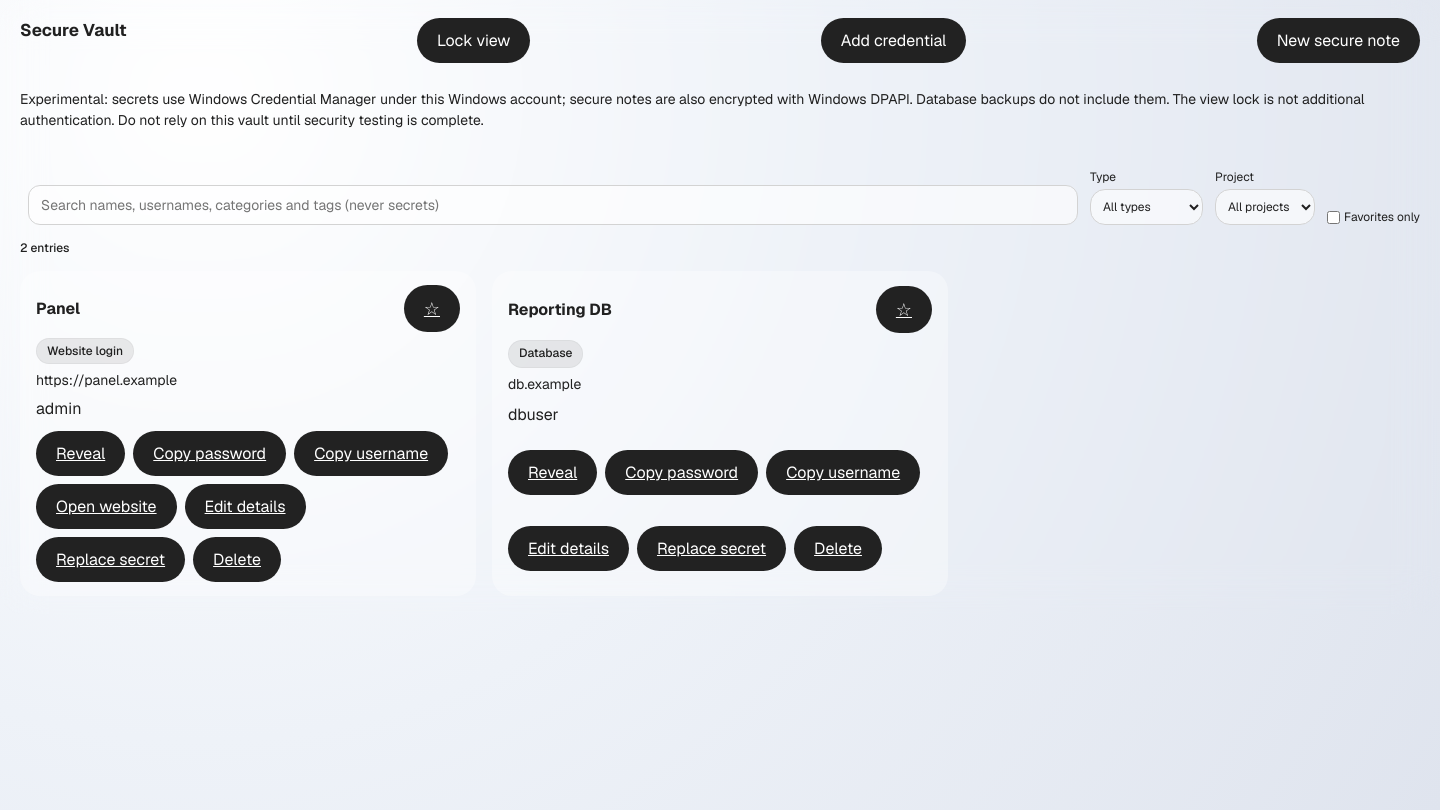
Test: search covers metadata but never secrets
The image size is (1440, 810).
Expected: the text "Panel" is shown, x1=36 y1=298 x2=80 y2=319
Type "db.example" into the field named "Search vault metadata". click: (553, 205)
box: x1=28 y1=185 x2=1078 y2=225
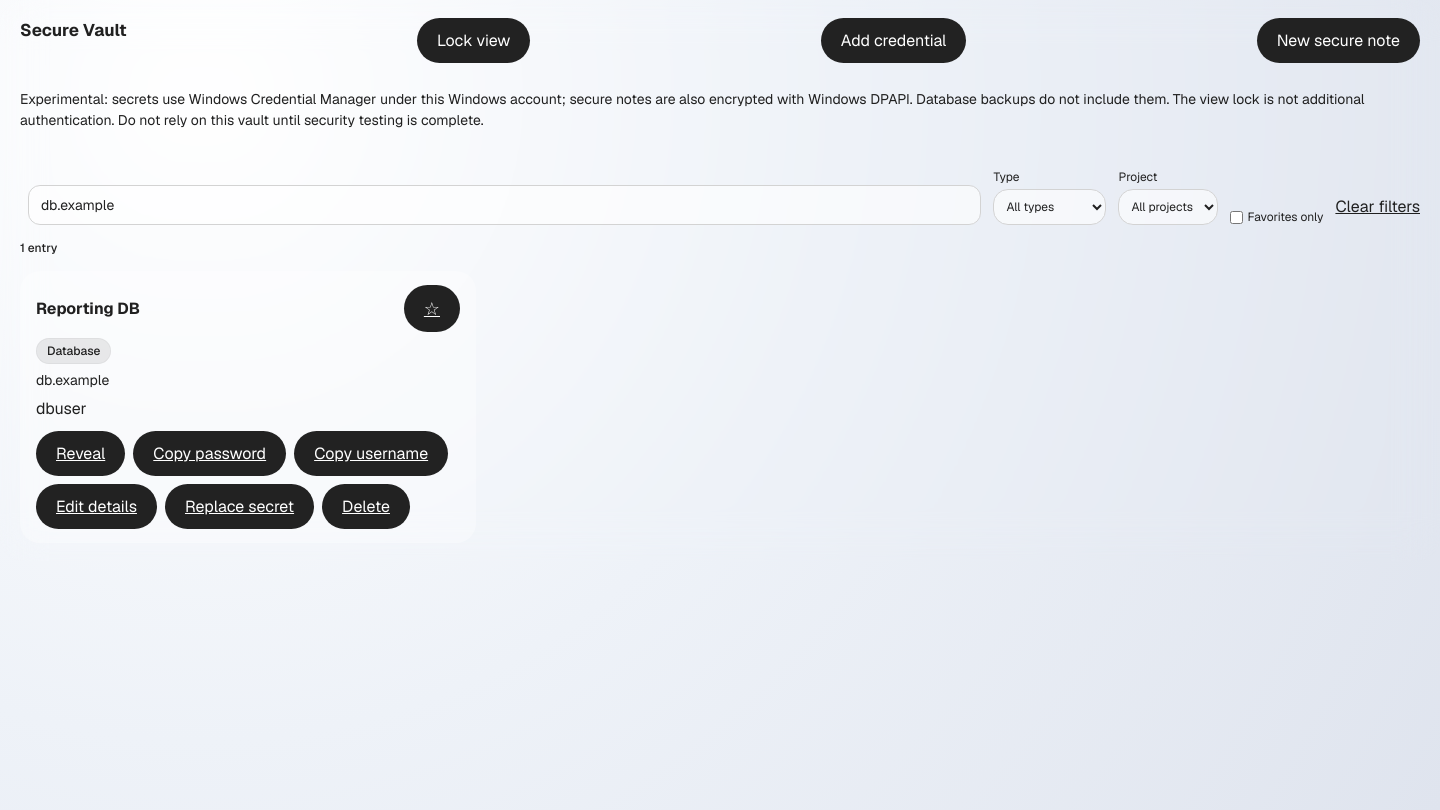
Expected: the text "Reporting DB" is shown, x1=36 y1=298 x2=140 y2=319
Expected: the text "Panel" is gone
